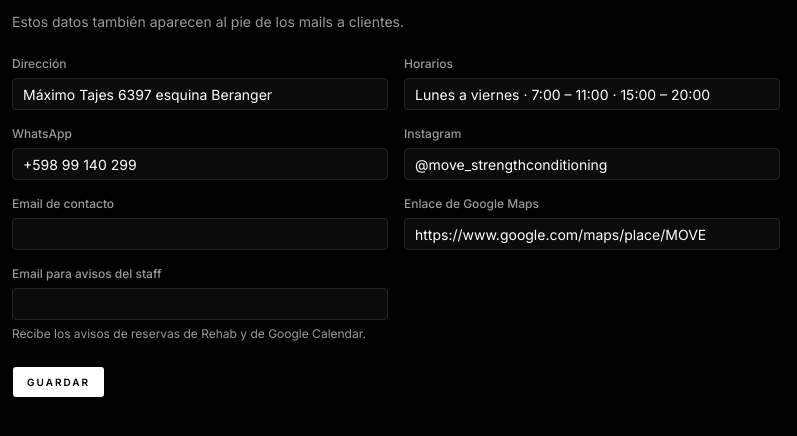
Scenario: ContactTab › links the staff notices hint to its field, and keeps it next to the error message
Step 1. Type "tampoco" into the field labelled "Email para avisos del staff" → (200, 304), box top-left (12, 288), bottom-right (388, 320)
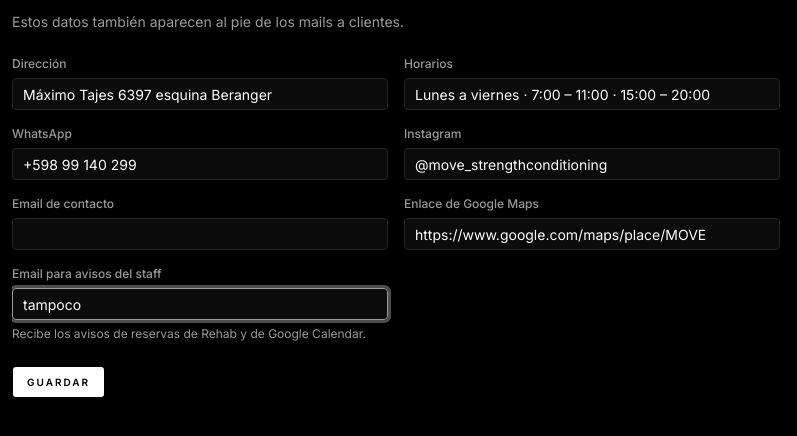
Step 2. Click the button "Guardar" → (59, 382), box top-left (12, 366), bottom-right (105, 398)
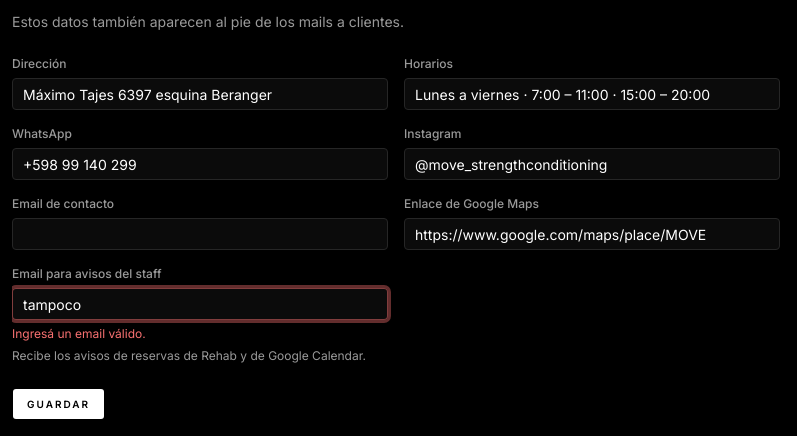
Now the text "Ingresá un email válido." is shown, box top-left (12, 326), bottom-right (146, 341)
